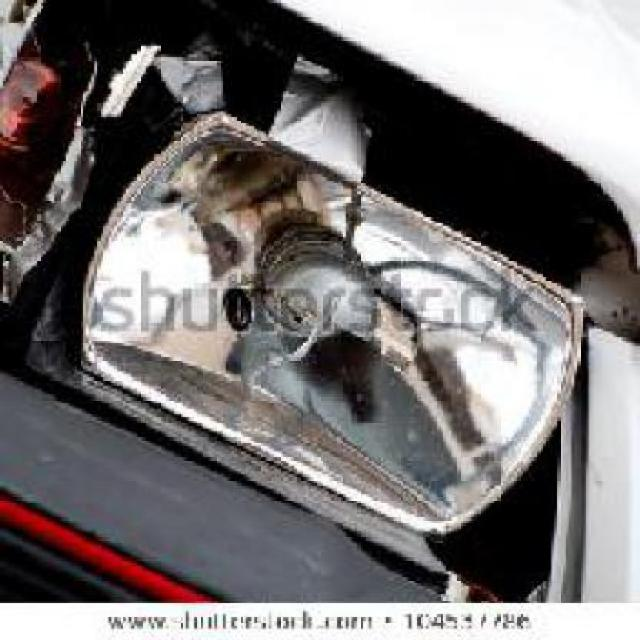damaged-head-light: (66, 58, 611, 544)
